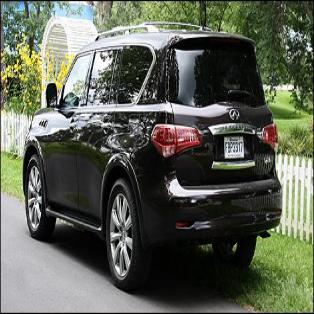Auto: (20, 19, 284, 295)
